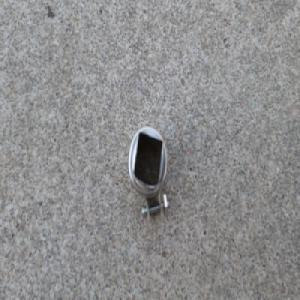MetalPart: (127, 123, 170, 226)
